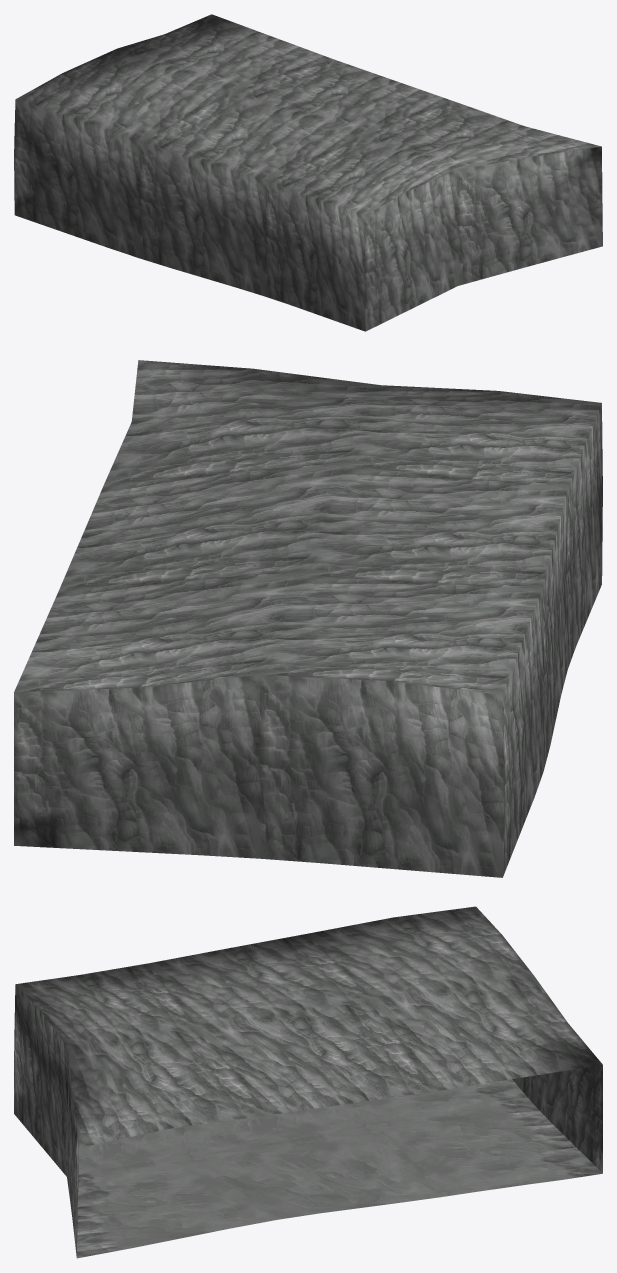
File: SWORDLIGHT20_PS-AREA04_02.fbx
3 views of the same model, one above another, from view 1: azimuth 30°, elevation 25°; view 2: azimuth 150°, elevation 25°; view 3: azimuth 270°, elevation 25° (orthographic). The views are drawn at different scales.
Parts seen in each view (by area): view 1: SWORDLIGHT20_PS-AREA04_02; view 2: SWORDLIGHT20_PS-AREA04_02; view 3: SWORDLIGHT20_PS-AREA04_02.
Boxes of the visible parts, <box> form: SWORDLIGHT20_PS-AREA04_02: <box>14,14,602,331</box>; SWORDLIGHT20_PS-AREA04_02: <box>14,360,602,877</box>; SWORDLIGHT20_PS-AREA04_02: <box>14,906,602,1258</box>.
Size of the model in its own units: 162598 by 45106 by 181033.
4 materials, 4 textured.
